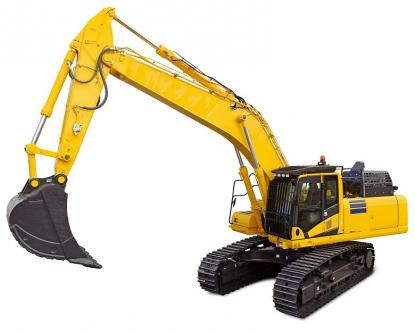backhoe: (8, 6, 414, 313)
